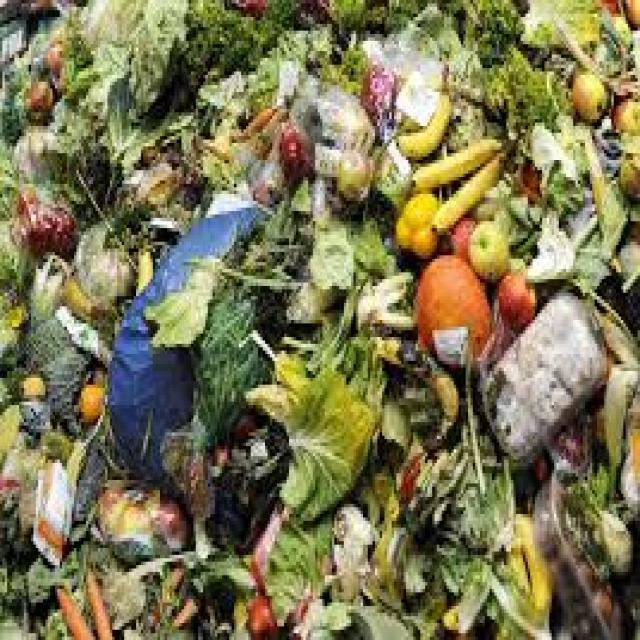food_waste: (7, 44, 614, 596)
